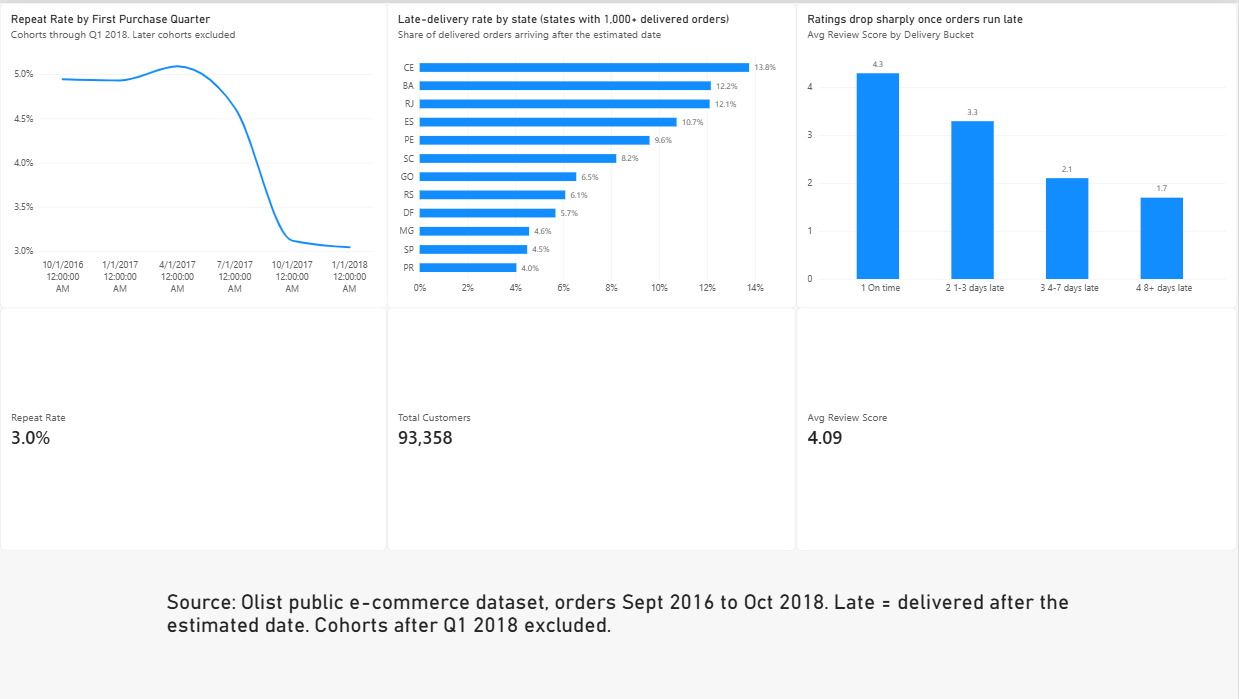

The page's visual inventory and layout, read from the dashboard file:
{"tool":"powerbi","page":{"name":"Page 1","canvas":[1920,1080],"ordinal":0},"visuals":[{"type":"clusteredColumnChart","title":"Ratings drop sharply once orders run late","fields":{"Category":["orders.Delivery Bucket"],"Y":["orders.Avg Review Score"]},"box":[1235.9,0,683.2,473.4],"z":0},{"type":"lineChart","title":"Repeat Rate by First Purchase Quarter","fields":{"Category":["customers.cohort_quarter"],"Y":["orders.Repeat Rate"]},"box":[0,0,600.9,473.4],"z":1},{"type":"clusteredBarChart","title":"Late-delivery rate by state (states with 1,000+ delivered orders)","fields":{"Category":["states.customer_state"],"Y":["Avg(states.late_pct)"]},"box":[600.9,0,635,473.4],"z":2},{"type":"cardVisual","fields":{"Data":["orders.Total Customers"]},"box":[600.9,473.4,635,377],"z":3},{"type":"cardVisual","fields":{"Data":["orders.Repeat Rate"]},"box":[0,473.4,600.9,377],"z":4},{"type":"cardVisual","fields":{"Data":["orders.Avg Review Score"]},"box":[1235.9,473.4,683.2,377],"z":5},{"type":"textbox","title":"Source: Olist public e-commerce dataset, orders Sept 2016 to Oct 2018. Late = delivered after the estimated date. Cohorts after Q1 2018 excluded.","box":[258,909.9,1403.2,170.1],"z":6}]}

Visuals, with their boxes in screenshot pixels (x1, y1, x2, y2), scaled from the page's 1920x1080 canvas onto the 1239x699 screenshot:
"Ratings drop sharply once orders run late" clusteredColumnChart: {"x1": 798, "y1": 0, "x2": 1238, "y2": 306}
"Repeat Rate by First Purchase Quarter" lineChart: {"x1": 0, "y1": 0, "x2": 388, "y2": 306}
"Late-delivery rate by state (states with 1,000+ delivered orders)" clusteredBarChart: {"x1": 388, "y1": 0, "x2": 798, "y2": 306}
cardVisual - orders.Total Customers: {"x1": 388, "y1": 306, "x2": 798, "y2": 550}
cardVisual - orders.Repeat Rate: {"x1": 0, "y1": 306, "x2": 388, "y2": 550}
cardVisual - orders.Avg Review Score: {"x1": 798, "y1": 306, "x2": 1238, "y2": 550}
"Source: Olist public e-commerce dataset, orders Sept 2016 to Oct 2018. Late = delivered after the estimated date. Cohorts after Q1 2018 excluded." textbox: {"x1": 166, "y1": 589, "x2": 1072, "y2": 698}
